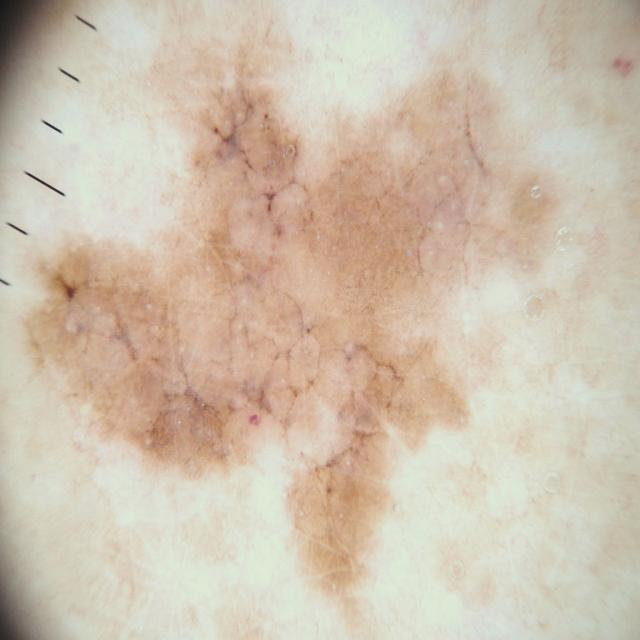Skin-Cancer Melanoma: (44, 60, 618, 606)
